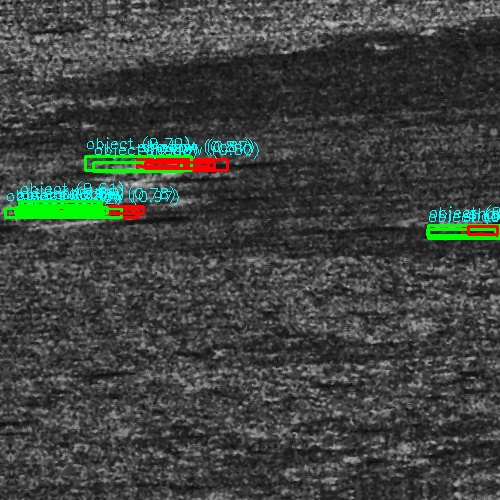rock: (122, 161, 195, 184), (0, 207, 124, 216), (101, 158, 174, 165), (431, 229, 494, 236)
shadow: (159, 161, 227, 184), (62, 207, 144, 216), (138, 158, 205, 165), (463, 229, 500, 236)
